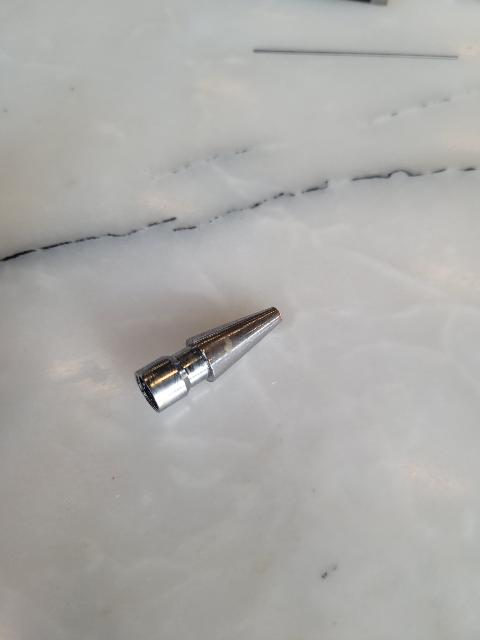Metal: (133, 302, 284, 417)
